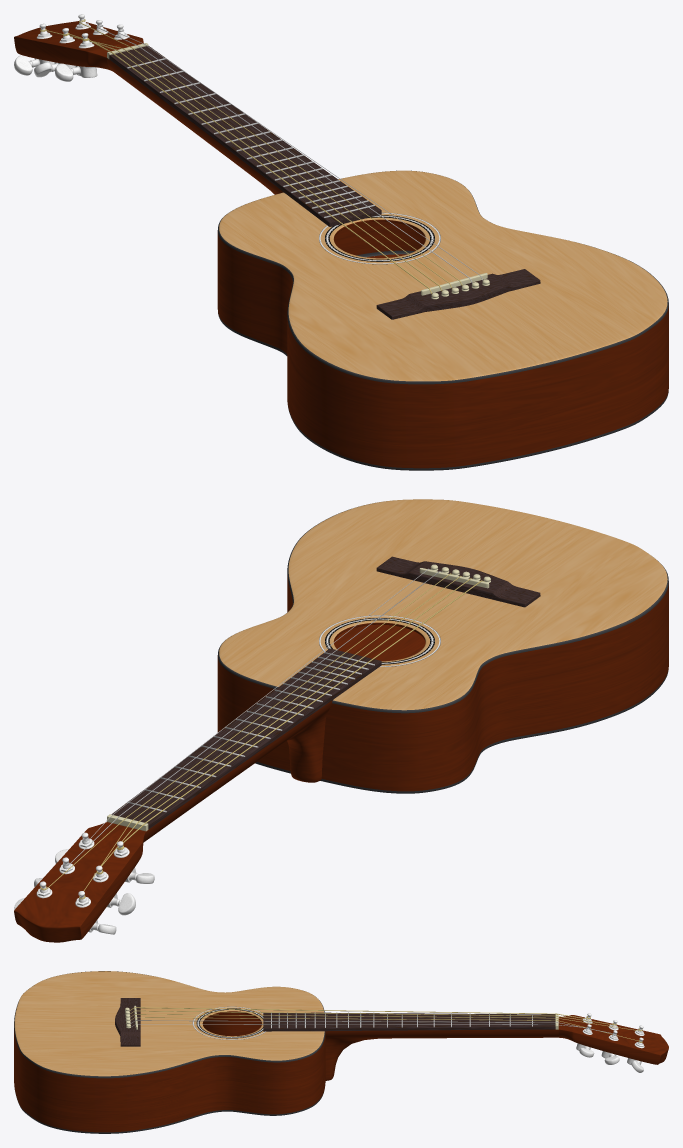
The model's file is guitar_acoustic_a.glb.
3 views of the same model, one above another, from view 1: azimuth 30°, elevation 25°; view 2: azimuth 150°, elevation 25°; view 3: azimuth 270°, elevation 25° (orthographic). The views are drawn at different scales.
Parts seen in each view (by area): view 1: guitar_acoustic_a; view 2: guitar_acoustic_a; view 3: guitar_acoustic_a.
Boxes of the visible parts, <box> form: guitar_acoustic_a: <box>14,14,668,470</box>; guitar_acoustic_a: <box>14,499,668,942</box>; guitar_acoustic_a: <box>14,971,668,1133</box>.
Bounding box in the file's own units: 0.3907 × 0.1129 × 1.02.
Materials: 13 (13 with a texture image).
